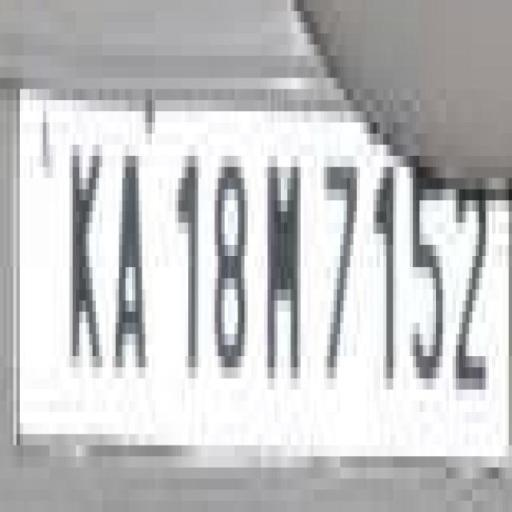number plate: (0, 78, 489, 500)
